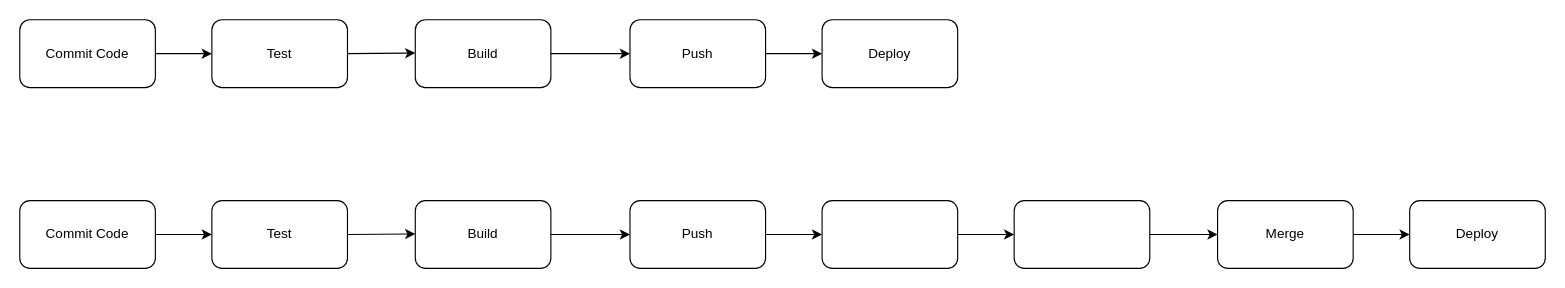
The diagram is 1565 pixels wide and 288 high, and some of its shapes have lost their labels. The shapes that lost their labels are listed below. From the top down, each one's centre as x and y in pixels, then its label:
At point (889, 233): "Code quality via codacy".
At point (1081, 233): "Pull Request".
